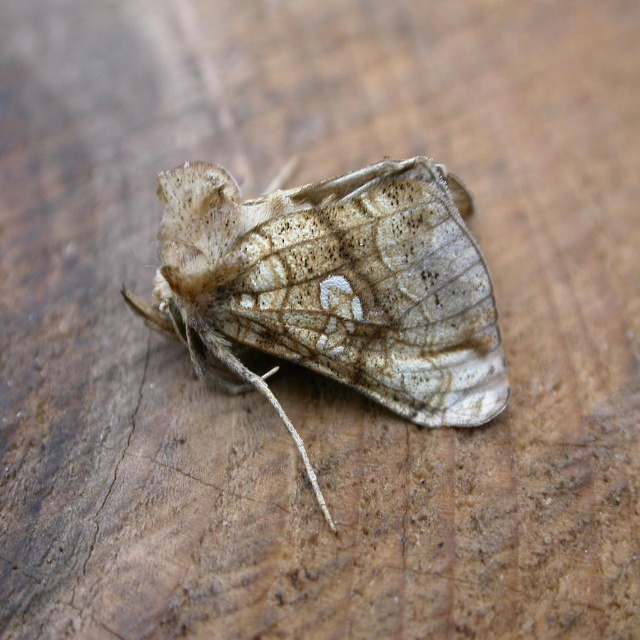Moths and butterflies: (119, 158, 514, 541)
